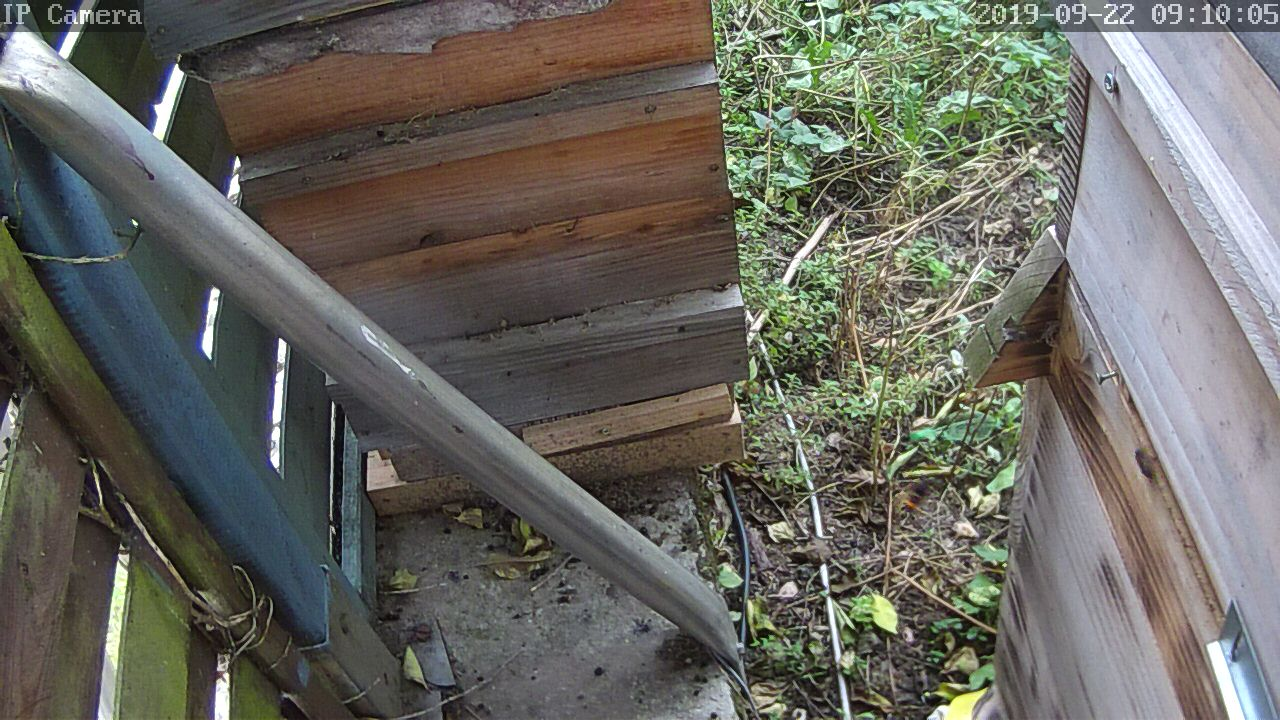bee: (1126, 440, 1159, 475)
hornet: (878, 464, 918, 519)
